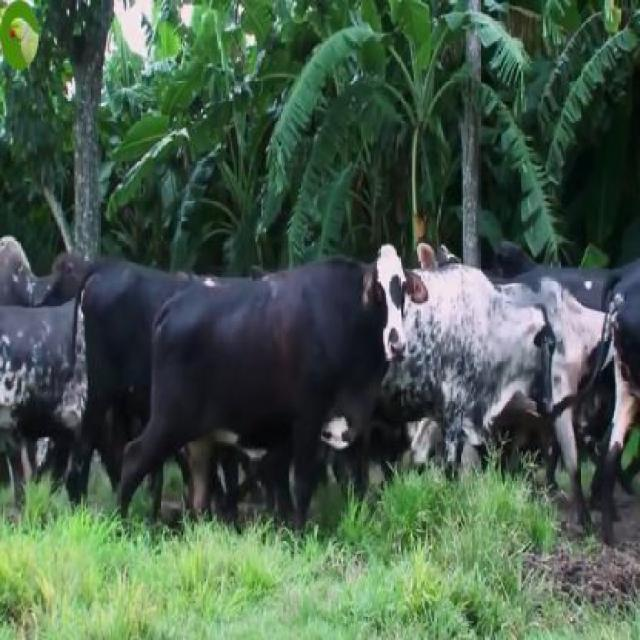Cow: (118, 240, 430, 542), (351, 271, 555, 491), (498, 268, 618, 495)
